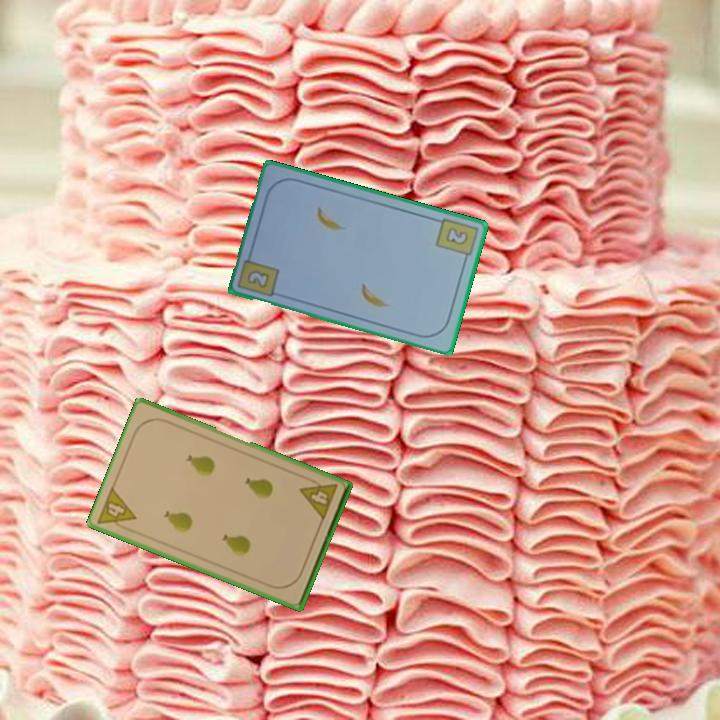2b: (432, 214, 480, 266), (244, 266, 273, 291)
4p: (94, 484, 139, 535), (297, 473, 340, 523)
